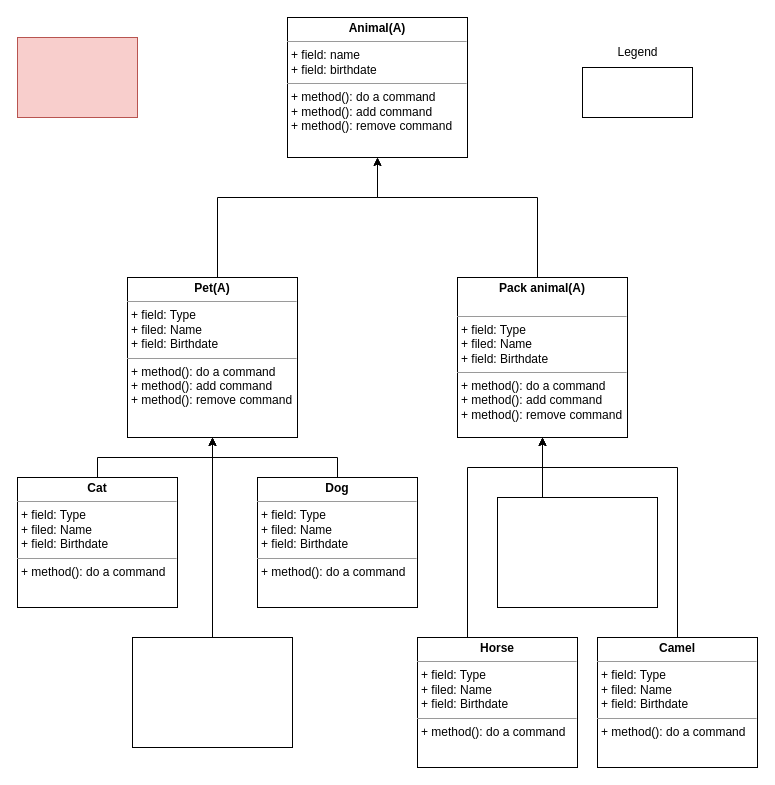
Image size: 775x785. Some labels were removed from this diagram. The shapes that lost their labels are listed below. From the top down, each one's centre as x and y in pixels, then its label:
the point at 77,77: Поля из родительского класса будут и в дочерних
the point at 637,92: A - abstract
the point at 577,552: Donkey + field: Type + filed: Name + field: Birthdate + method(): do a command
the point at 212,692: Hamster + field: Type + filed: Name + field: Birthdate + method(): do a command
